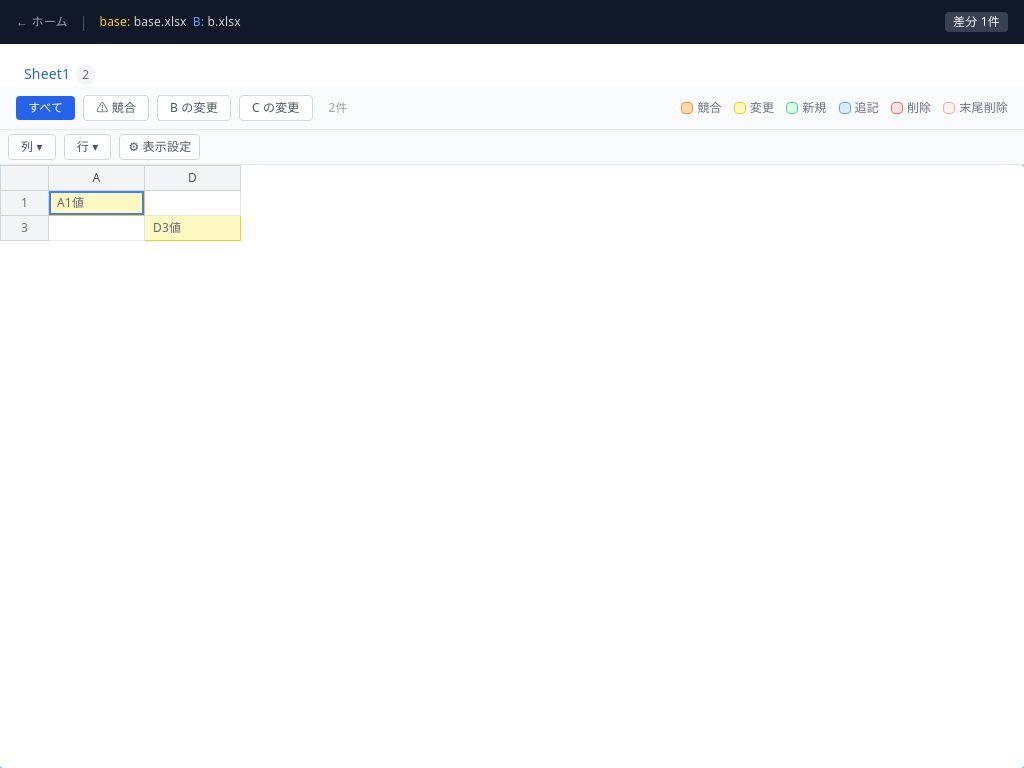
B-031: 列・行フィルタ › 列を除外すると行フィルタのドロップダウンからその列にしかない行が消える
This screenshot has width=1024, height=768.
Expected: the text "A1値" is shown, [48,190,144,216]
Click the button "列 ▾": click(32, 147) [8,134,56,160]
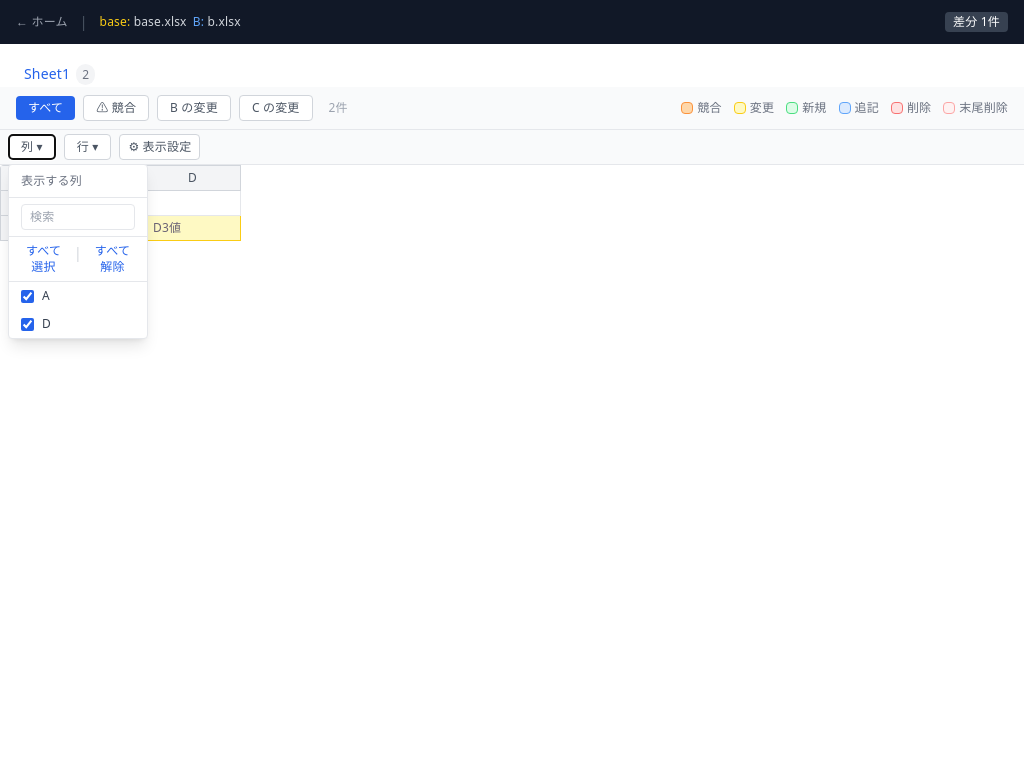
Click the checkbox labelled "D": click(28, 324) [21,318,34,330]
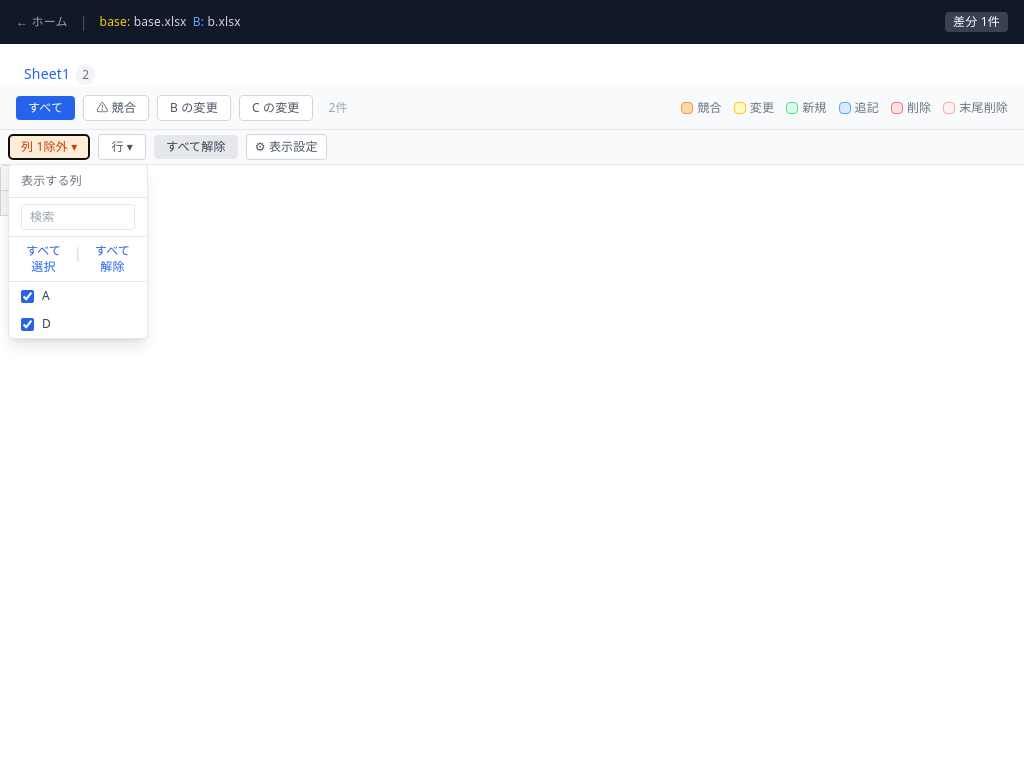
# 行フィルタを開く → 3行目（D列のみ）は項目に出ない
Click the button "行 ▾": click(122, 147) [98,134,146,160]
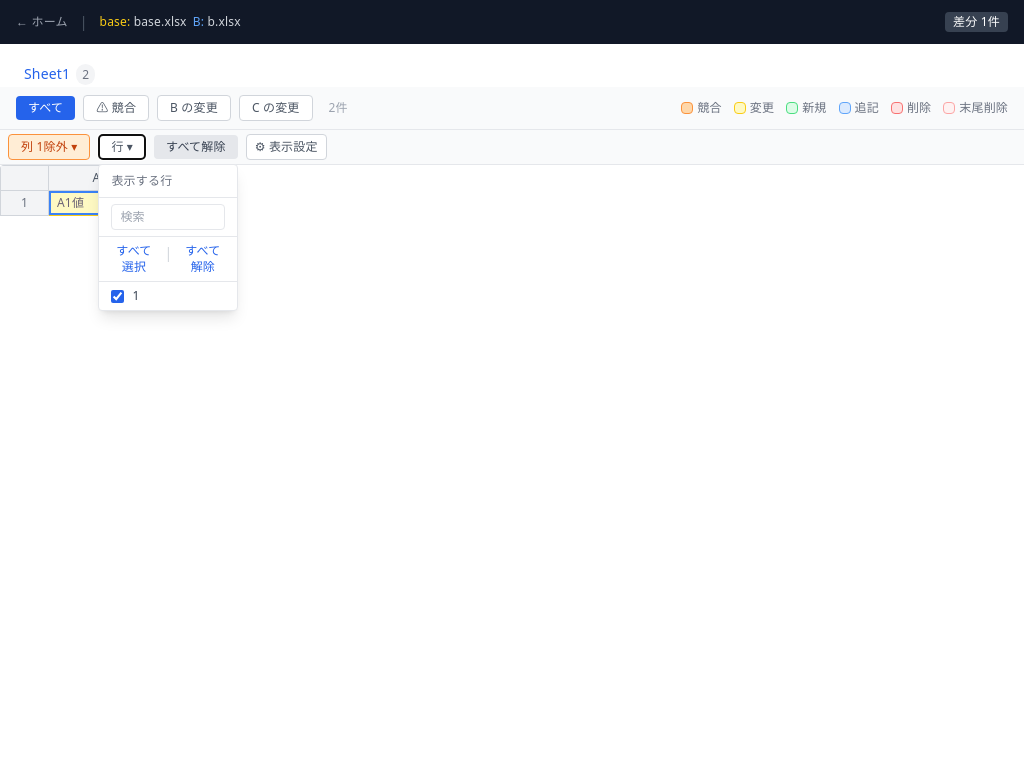
Expected: the cell labelled "3" is not shown
Expected: the checkbox labelled "1" is shown, [111,290,124,302]
